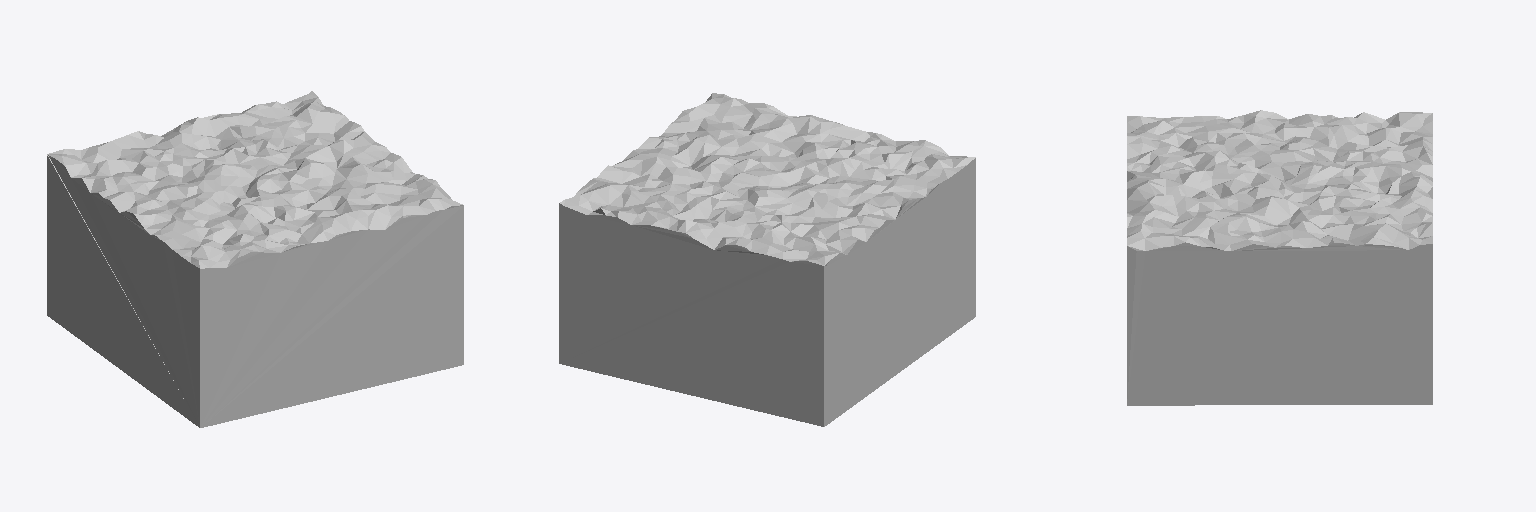
File: water_000014.obj
3 views of the same model, side by side, from view 1: azimuth 30°, elevation 25°; view 2: azimuth 150°, elevation 25°; view 3: azimuth 270°, elevation 25° (orthographic).
Visible parts, largest first — view 1: Plane; view 2: Plane; view 3: Plane.
Boxes of the visible parts, x1,y1,x2,y2 form: Plane: [47, 91, 463, 427]; Plane: [559, 93, 975, 426]; Plane: [1127, 110, 1432, 405].
Size of the model in its own units: 16.15 by 9.9 by 16.12.